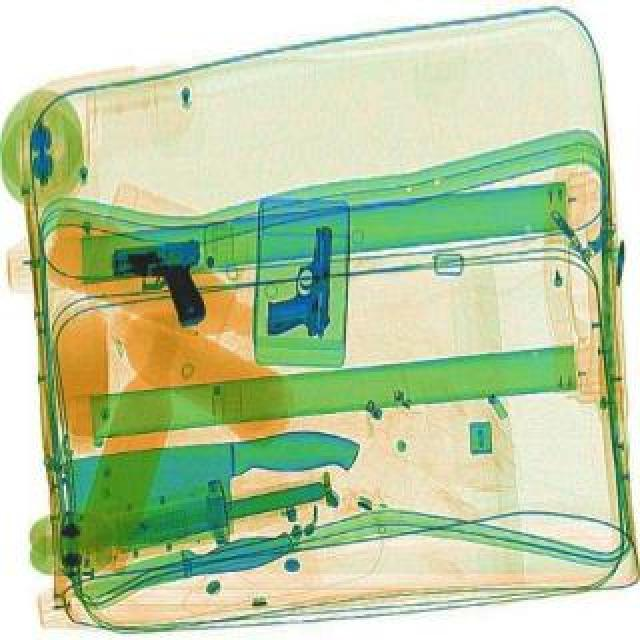gun: (110, 234, 214, 332), (266, 222, 338, 338)
knife: (62, 420, 370, 554), (88, 468, 336, 554), (78, 518, 302, 608)
